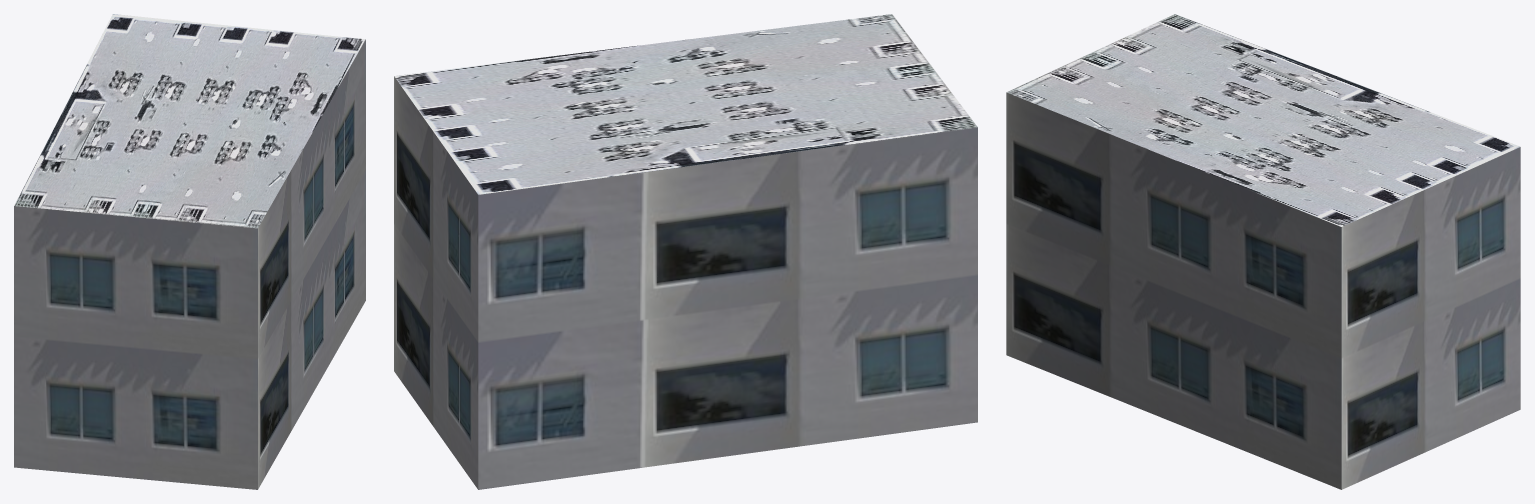
The model's file is ResTex__1688.fbx.
3 views of the same model, side by side, from view 1: azimuth 30°, elevation 25°; view 2: azimuth 150°, elevation 25°; view 3: azimuth 270°, elevation 25° (orthographic). The views are drawn at different scales.
Parts seen in each view (by area): view 1: CityEngineMaterial_10_m, CityEngineMaterial_8_m; view 2: CityEngineMaterial_10_m, CityEngineMaterial_8_m; view 3: CityEngineMaterial_10_m, CityEngineMaterial_8_m.
Part boxes in pixels (left/top/right/bottom): CityEngineMaterial_10_m: left=14, top=39, right=365, bottom=489; CityEngineMaterial_8_m: left=14, top=14, right=365, bottom=228; CityEngineMaterial_10_m: left=394, top=76, right=977, bottom=489; CityEngineMaterial_8_m: left=394, top=14, right=977, bottom=194; CityEngineMaterial_10_m: left=1006, top=92, right=1520, bottom=489; CityEngineMaterial_8_m: left=1006, top=14, right=1520, bottom=226.
Size of the model in its own units: 10.43 by 6 by 10.65.
Materials: 2 (2 with a texture image).
